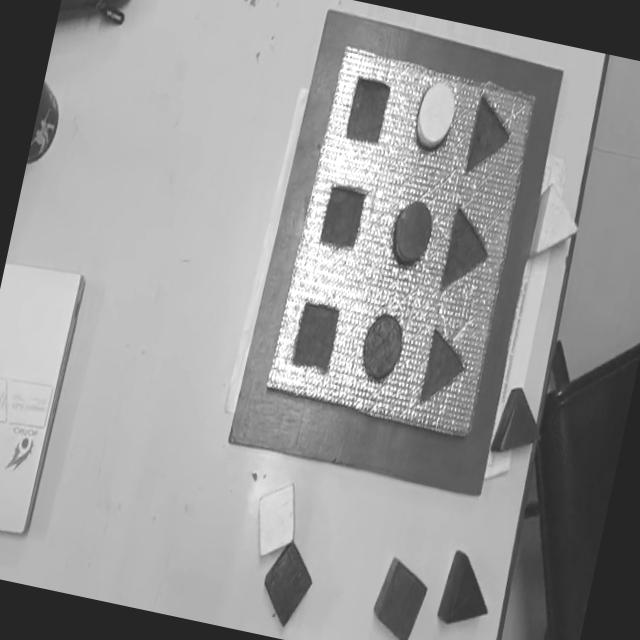bcircle: (363, 314, 403, 381)
bcube: (256, 538, 320, 632)
btriangle: (434, 546, 500, 632)
mtcube: (289, 298, 344, 376), (342, 75, 392, 148), (317, 183, 368, 253)
mttriangle: (436, 204, 496, 300), (462, 92, 518, 184), (417, 328, 472, 412)
rcircle: (393, 200, 432, 265)
rcube: (366, 553, 432, 640)
rtriangle: (489, 382, 548, 460)
wb: (261, 37, 545, 441)
ycircle: (417, 80, 455, 148)
ycube: (246, 475, 305, 565)
ytriangle: (526, 180, 586, 266)
